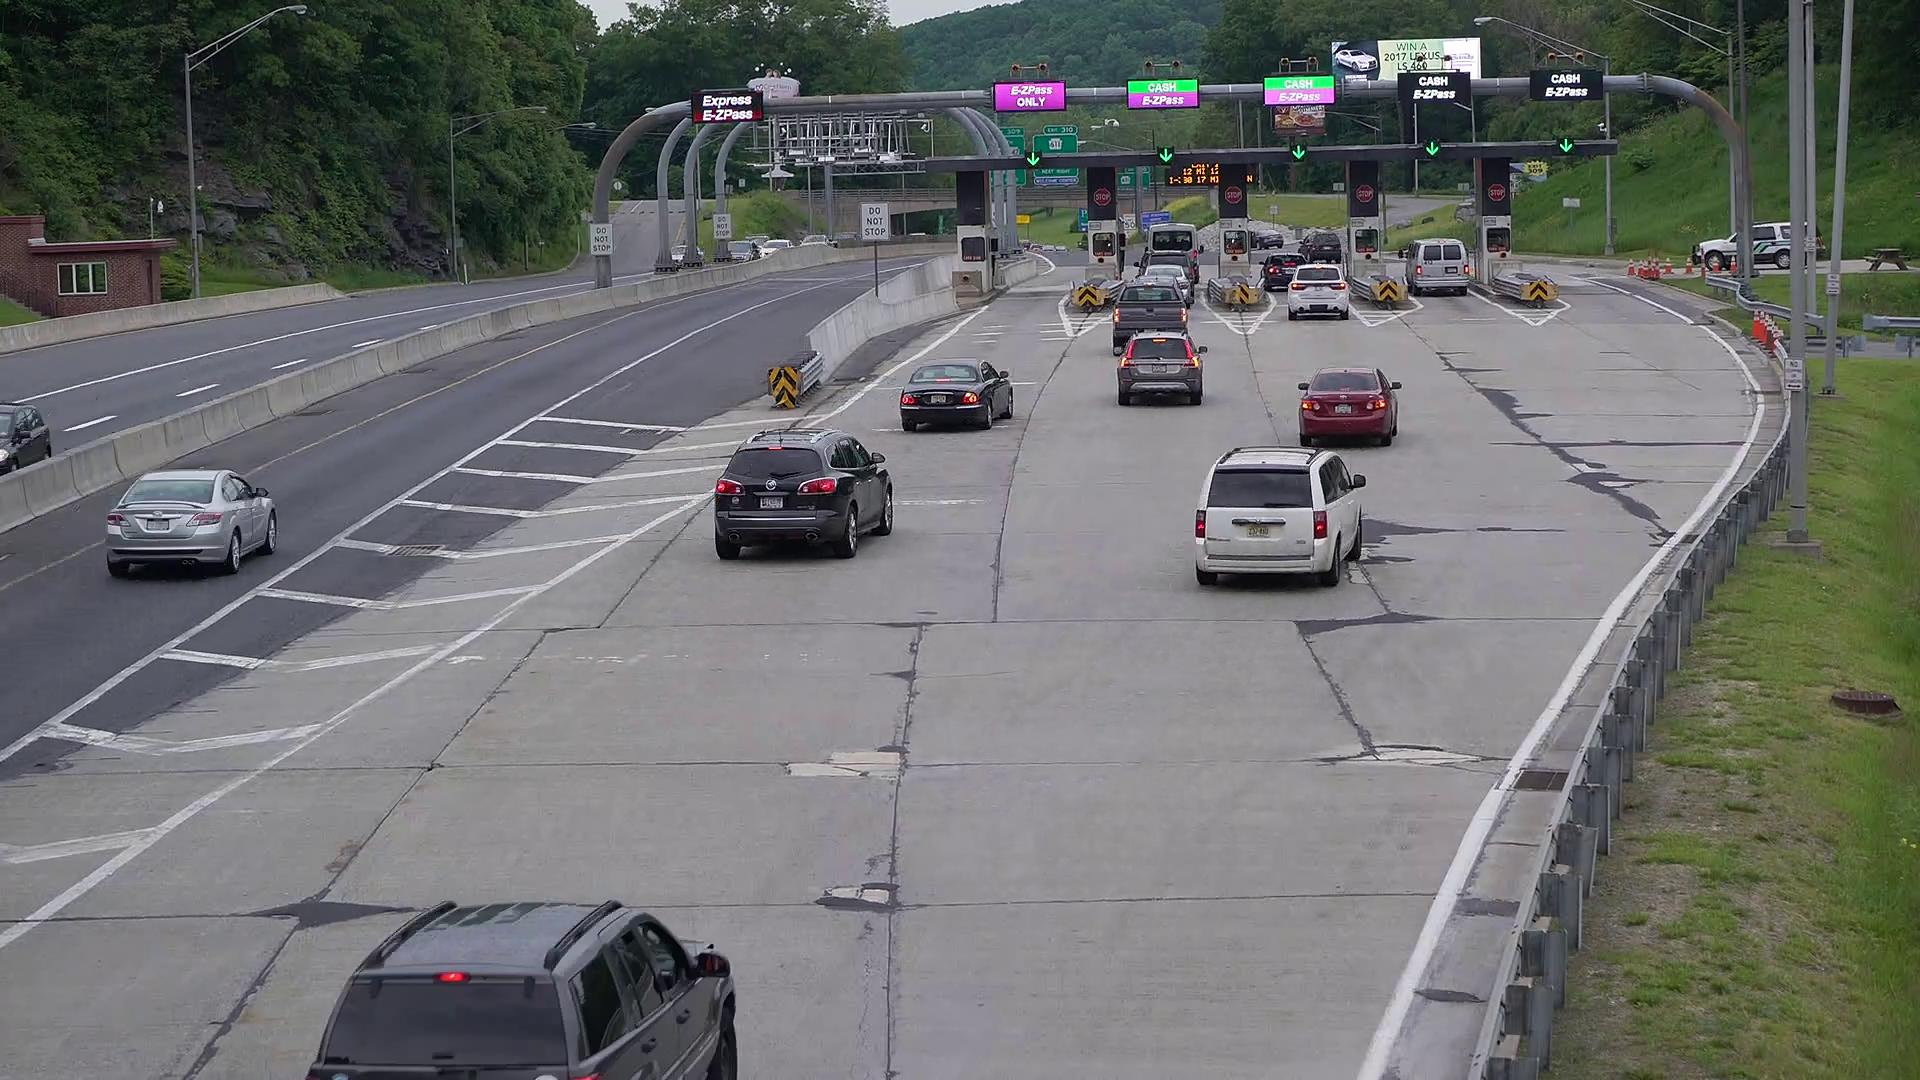bus: (705, 400, 905, 572)
